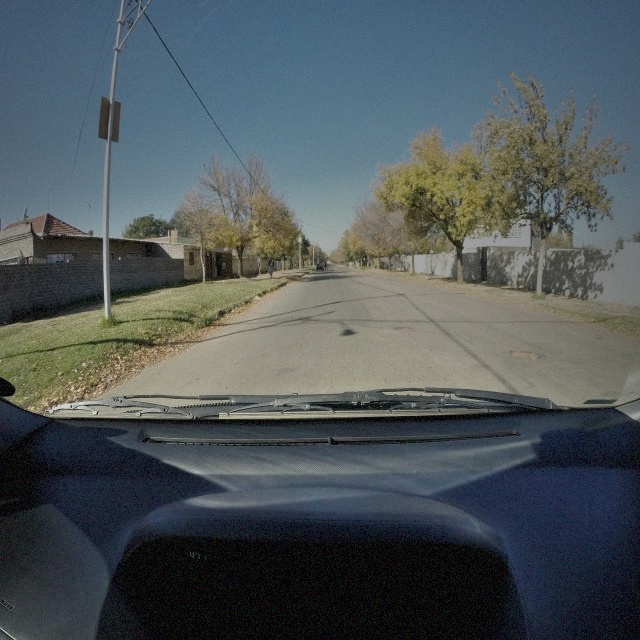pothole: (510, 347, 546, 362), (396, 324, 414, 333)
